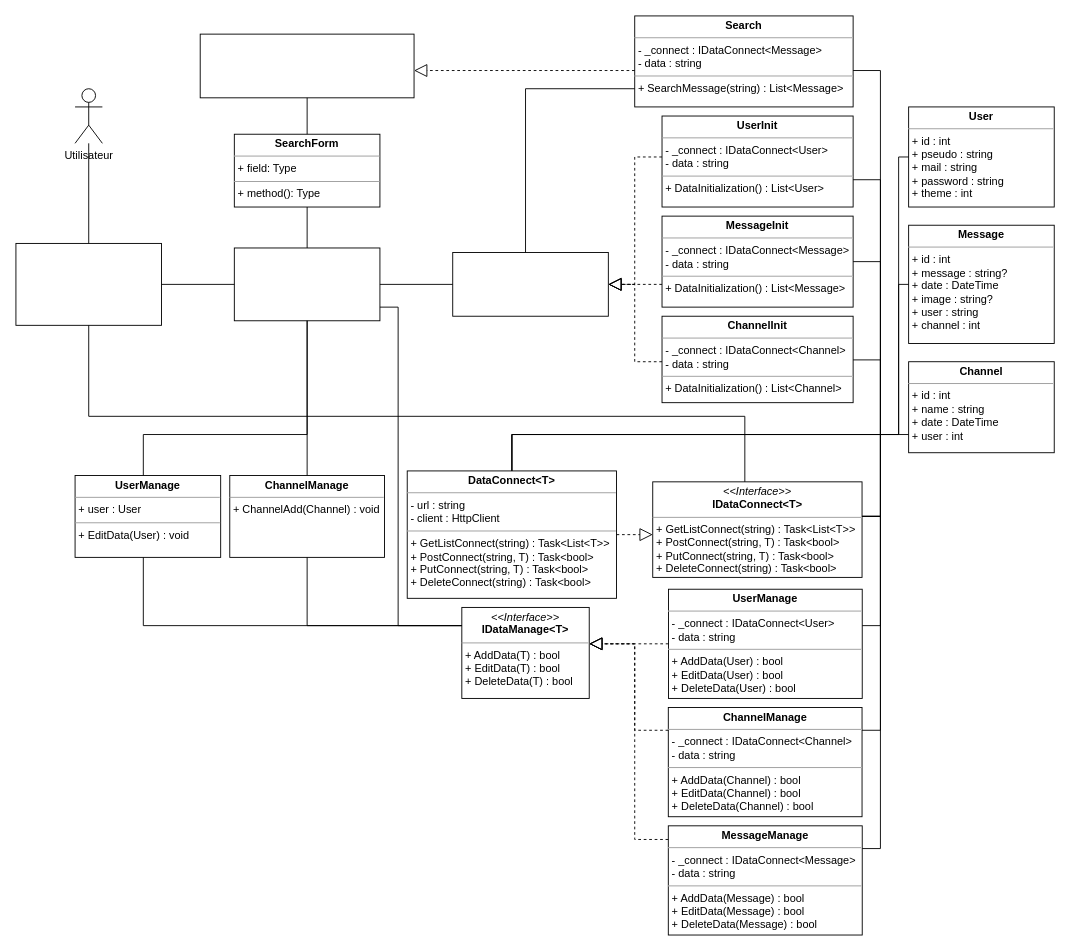
The diagram is 1070 pixels wide and 951 high, and some of its shapes have lost their labels. Each missing label, with the centre of its shape:
<<Interface>> IDataInit<T> + DataInitialization() : List<T>: the point at 530,284
<<Interface>> ISearch + SearchMessage(string) : List<Message>: the point at 306,65
ClientConnect + field: Type + method(): Type: the point at 88,284
Main + field: Type + method(): Type: the point at 306,284
